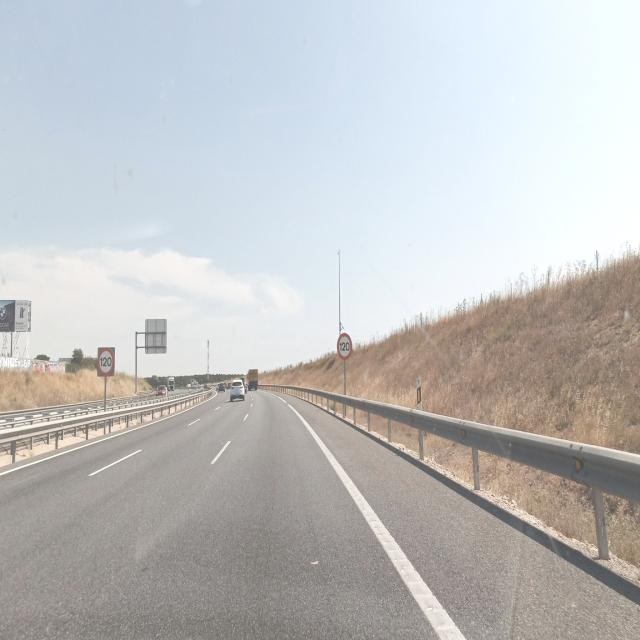car: (229, 379, 245, 402), (216, 382, 226, 392)
